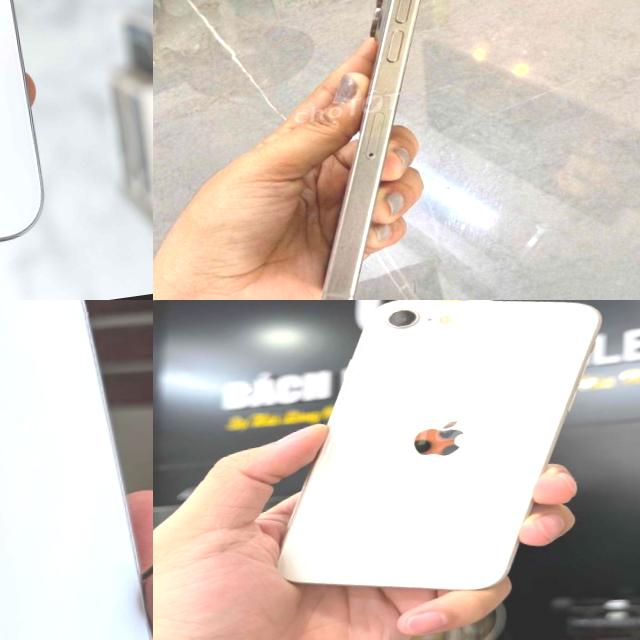gen_14: (0, 0, 59, 279)
gen_15: (180, 0, 508, 300), (0, 300, 153, 640)
gen_7_8: (227, 300, 640, 625)
